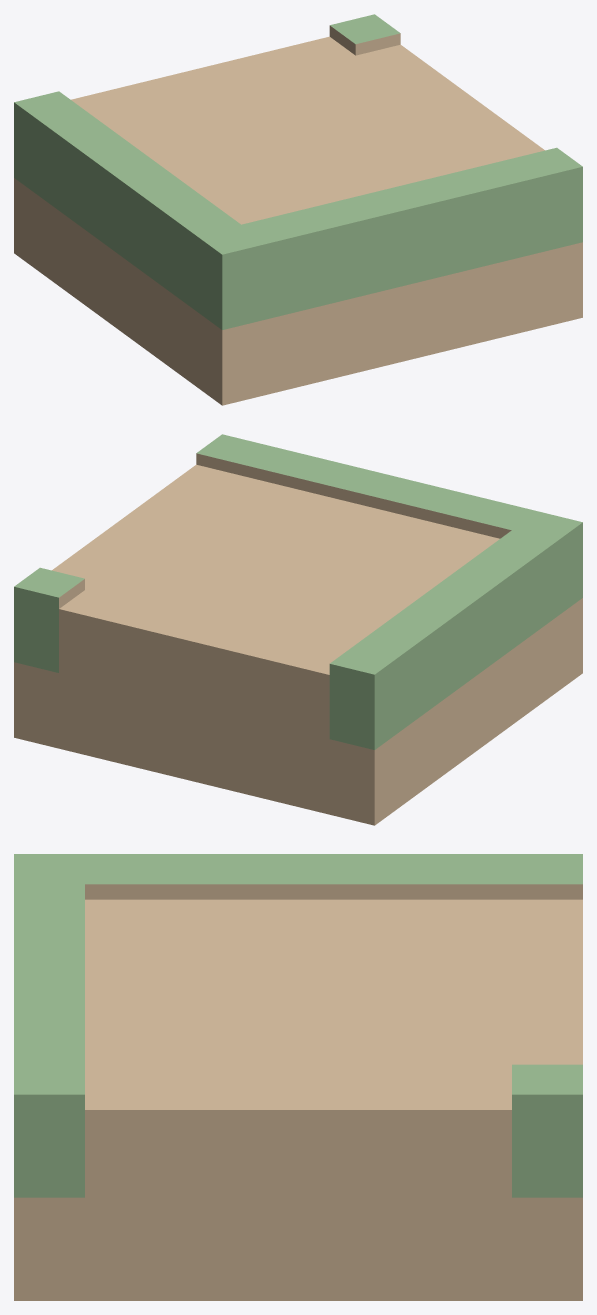
Rendered from tower-defense-classic--tile-091.glb.
3 views of the same model, one above another, from view 1: azimuth 30°, elevation 25°; view 2: azimuth 150°, elevation 25°; view 3: azimuth 270°, elevation 25° (orthographic). The views are drawn at different scales.
Parts seen in each view (by area): view 1: tile_091; view 2: tile_091; view 3: tile_091.
Boxes of the visible parts, x1,y1,x2,y2 form: tile_091: [14, 14, 582, 405]; tile_091: [14, 434, 582, 825]; tile_091: [14, 854, 582, 1300].
Size of the model in its own units: 1 by 0.4 by 1.
